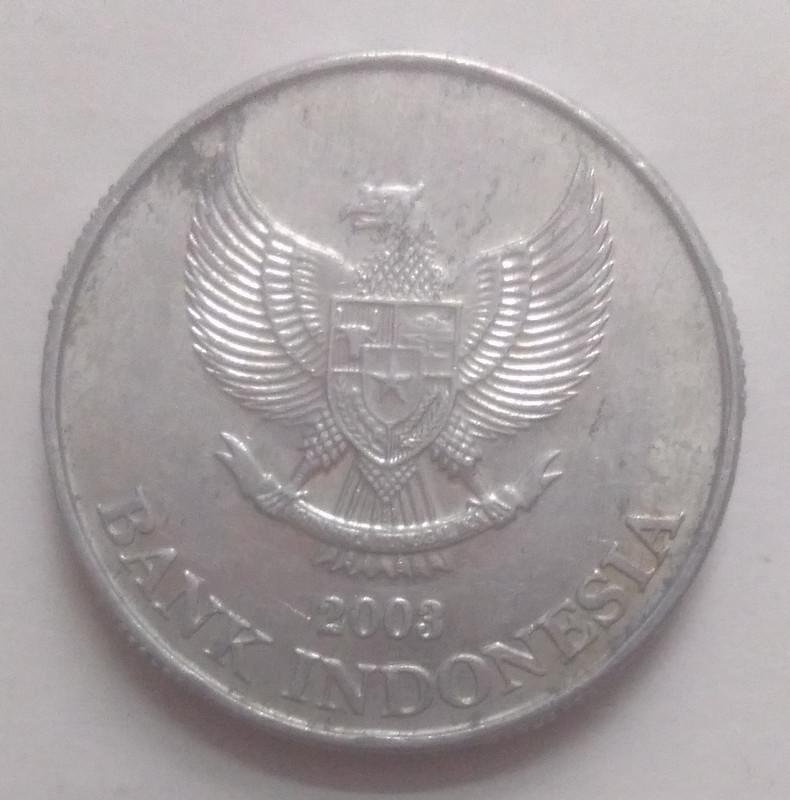coin_500_e2003: (40, 43, 744, 760)
